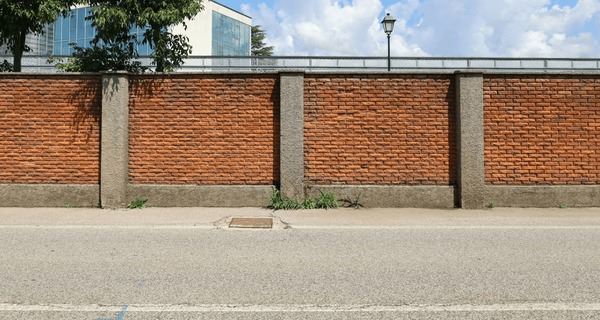Lamp: (380, 12, 400, 72)
Wall: (101, 86, 243, 205), (316, 92, 416, 207), (486, 86, 559, 205)
